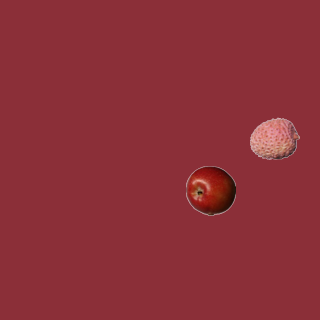Apple Braeburn: (185, 165, 235, 215)
Lychee: (249, 113, 299, 163)
